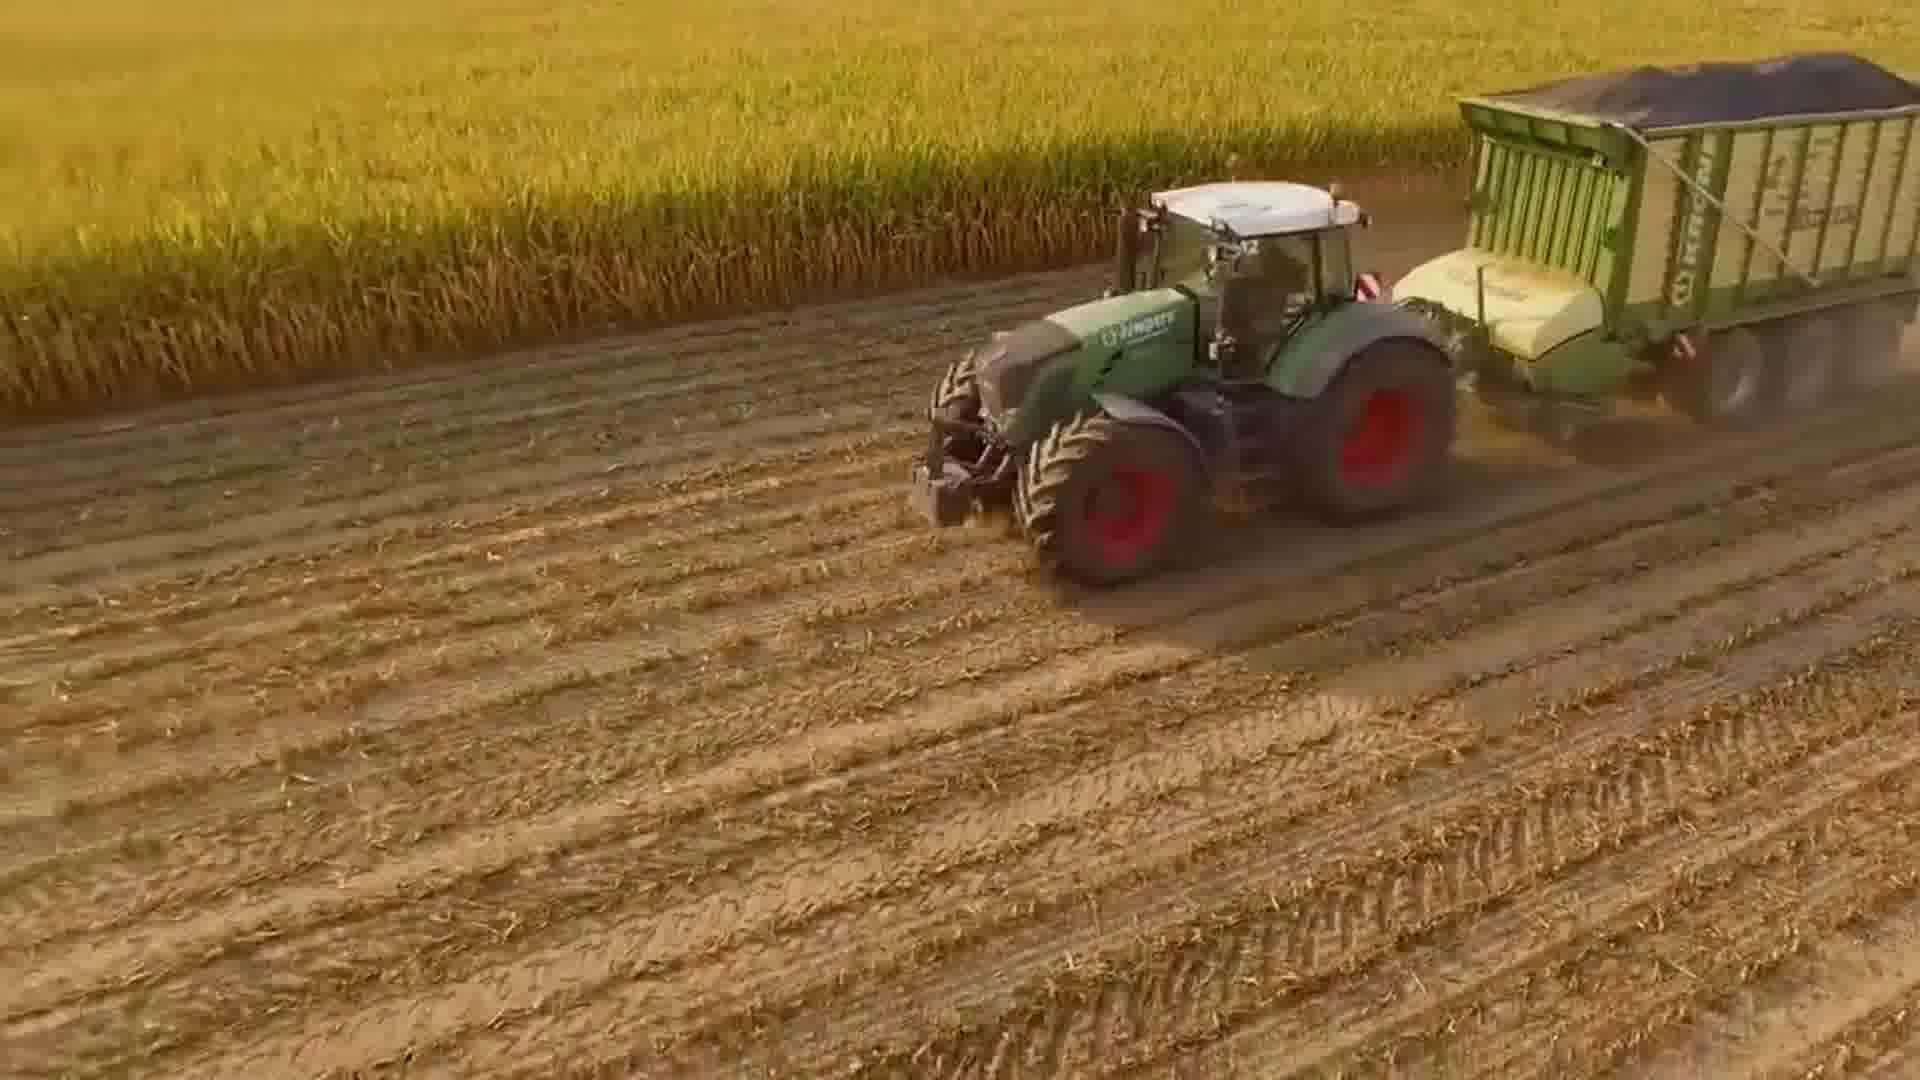tractor: (899, 156, 1477, 607)
trailer: (1394, 39, 1920, 436)
